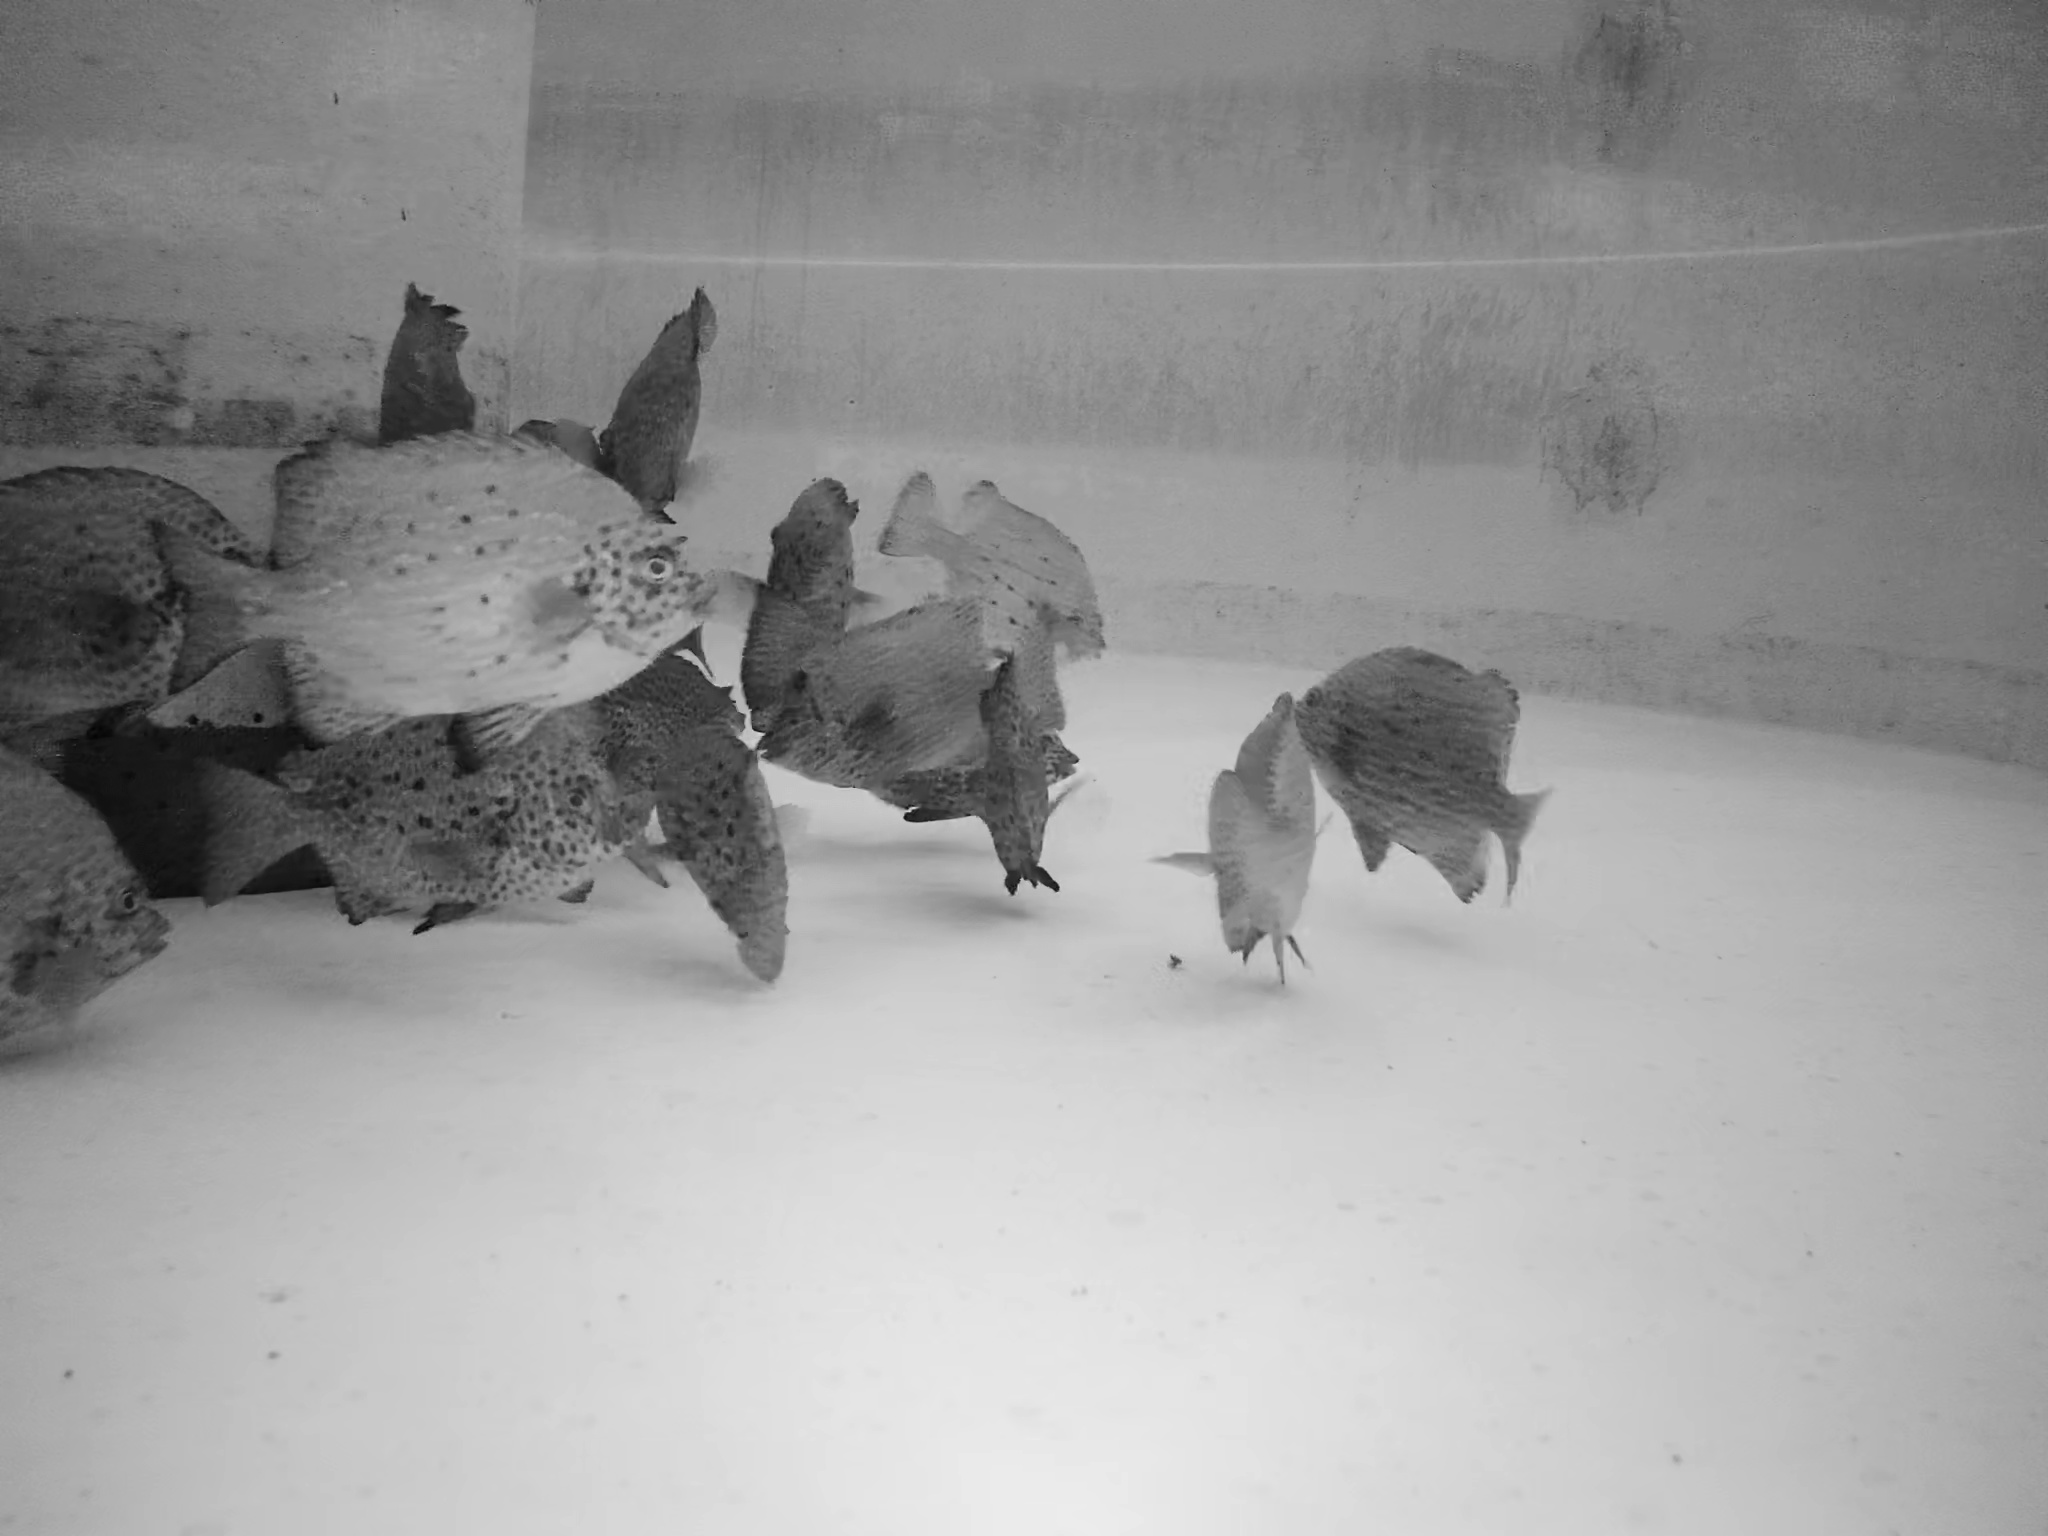fish: (144, 415, 719, 733), (169, 737, 656, 931), (10, 466, 261, 765), (1301, 631, 1551, 907), (651, 652, 795, 994), (2, 766, 169, 1052), (887, 463, 1116, 666), (1176, 708, 1326, 981), (589, 281, 729, 542), (745, 470, 866, 762), (379, 269, 472, 499)
